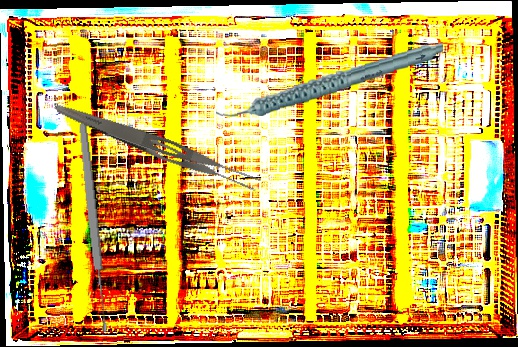Dressing Forceps: (49, 99, 265, 196)
Handpiece: (212, 41, 447, 119)
Surgical Spoon: (76, 123, 111, 333)
